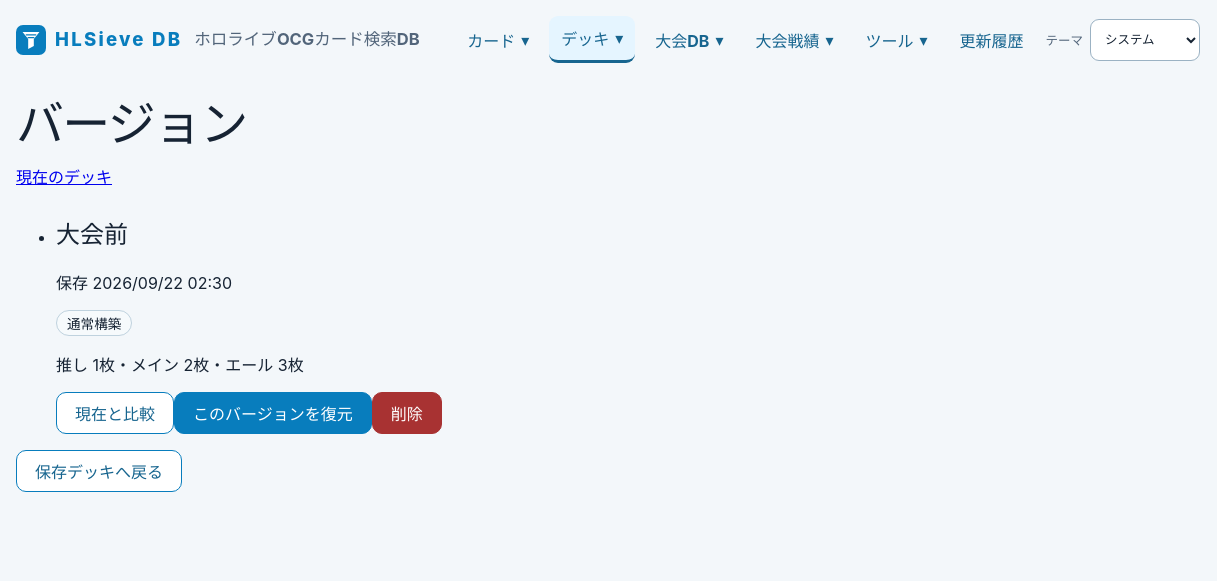
Test case: comparing a snapshot with the deck now › shows what changed, using the existing comparison
Expected: the heading "大会前" is shown, [56,220,128,249]
Click the button "現在と比較".
click(115, 412)  # box [56,392,174,434]
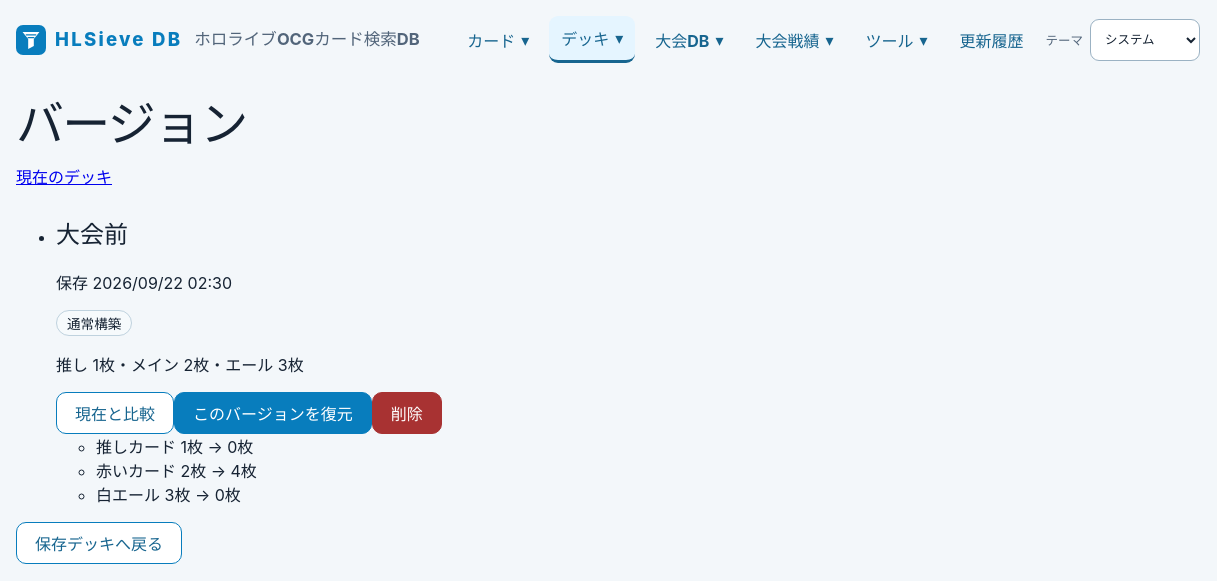
Expected: the list item "赤いカード 2枚 → 4枚" is shown, [96,460,257,480]
